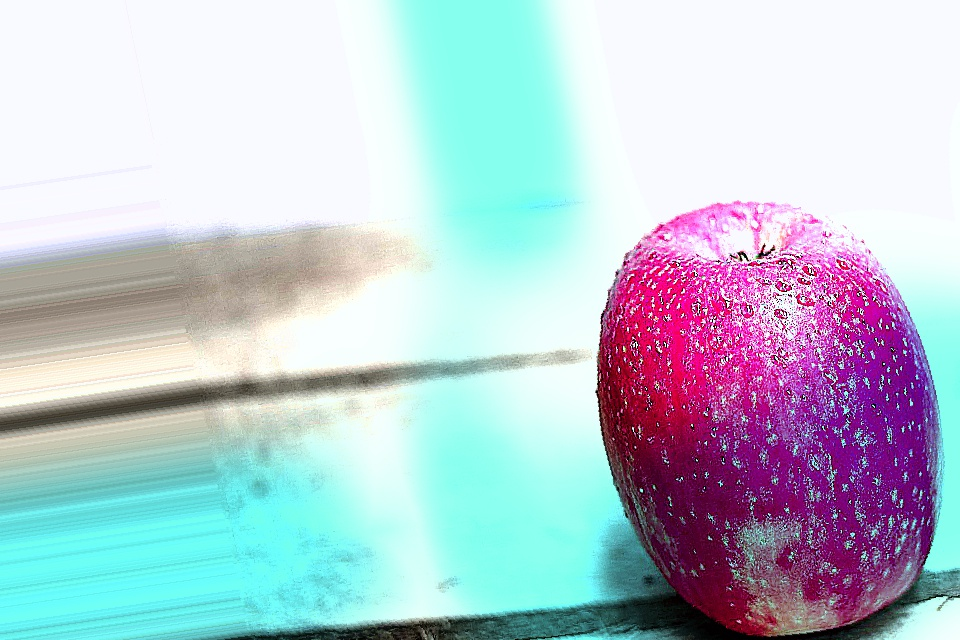apple: (529, 148, 959, 639)
